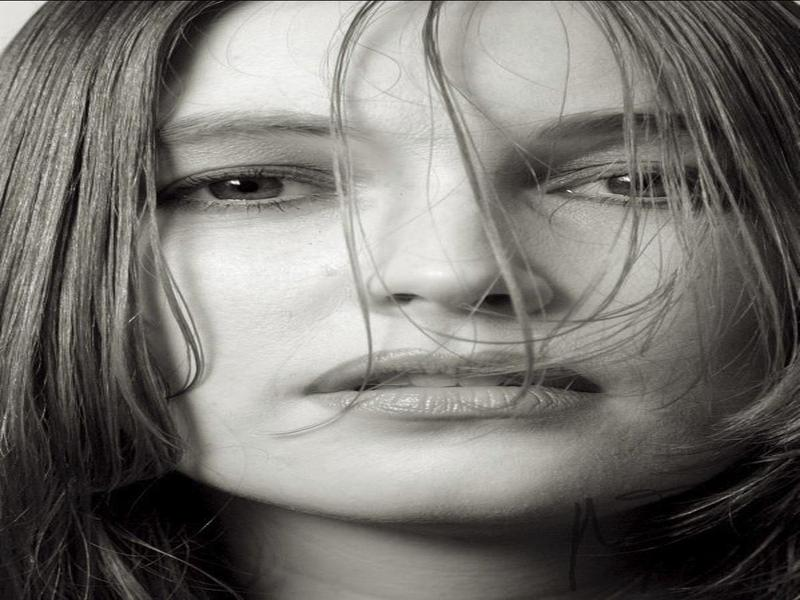person: (10, 1, 796, 600)
